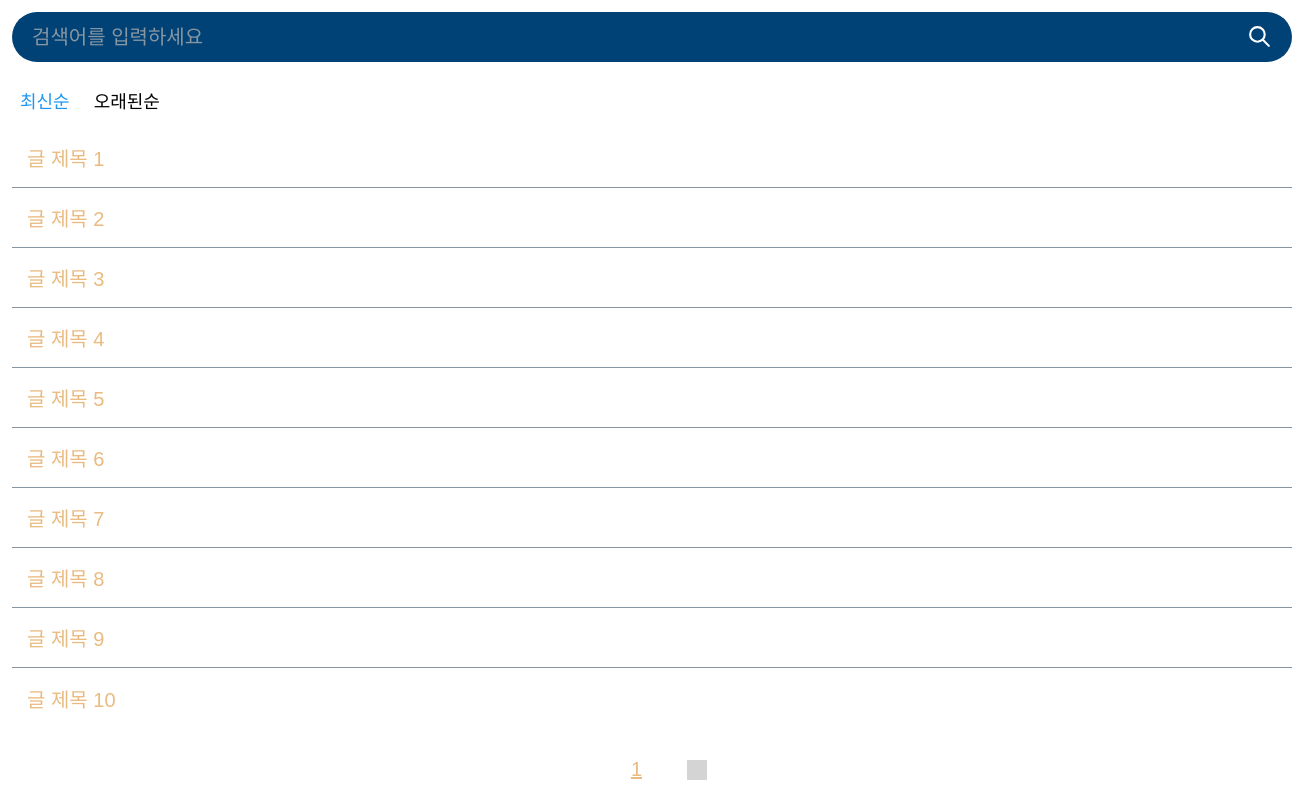
Home 페이지 통합 테스트 › 다음 페이지 버튼 클릭 시 페이지 변경
This screenshot has width=1304, height=812.
Click the 2nd button with alt text "다음 페이지 아이콘" at (697, 770), box x1=683 y1=748 x2=711 y2=791
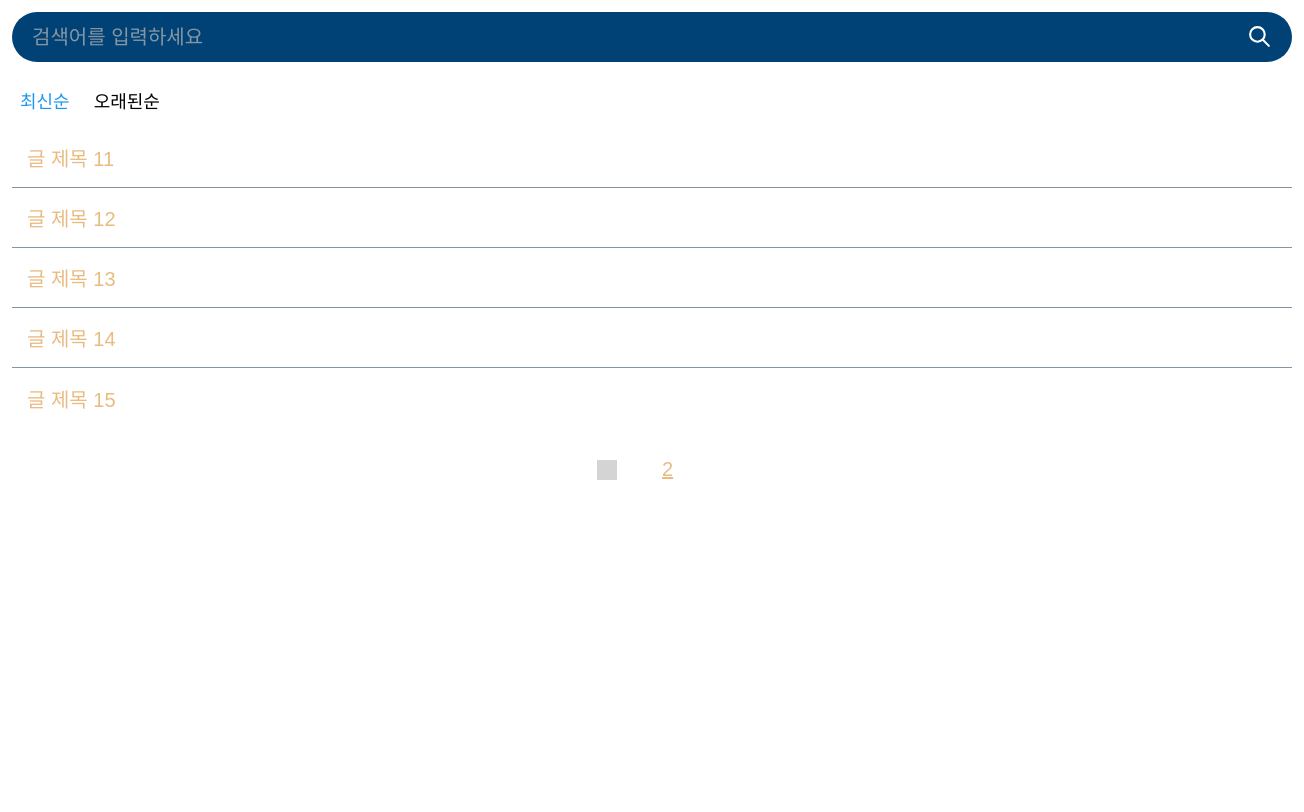
Expected: the element showing "글 제목 11" is shown, x1=12 y1=128 x2=1292 y2=188
